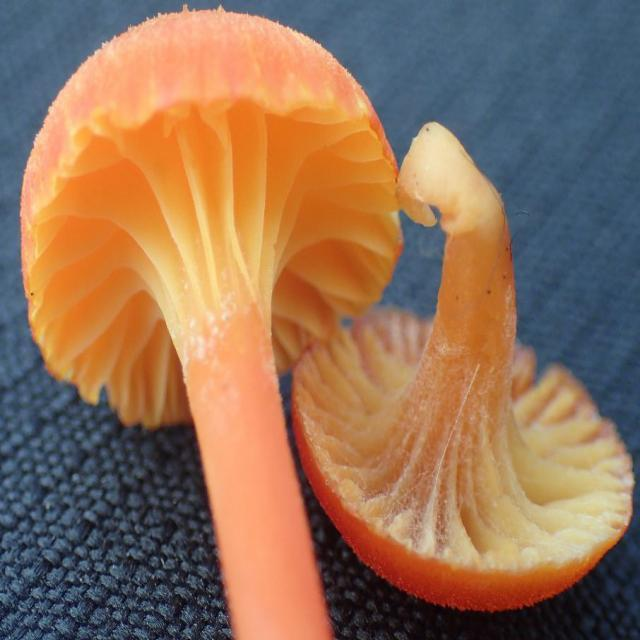Cantharellus cibarius: (21, 9, 401, 640), (292, 121, 634, 610)
